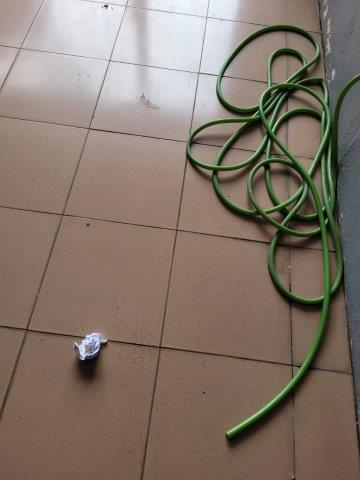kertas: (73, 332, 108, 365)
